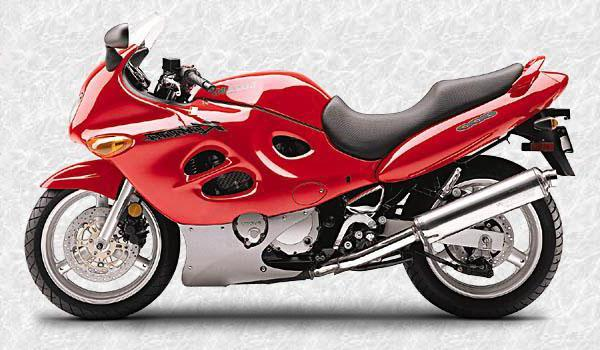motorcycle: (16, 1, 583, 335)
